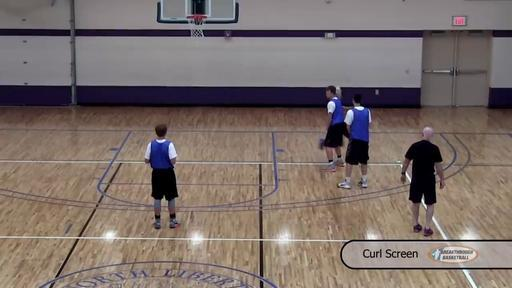human: (400, 127, 444, 236), (144, 124, 181, 230), (338, 94, 372, 188), (320, 86, 348, 172)
rim: (186, 15, 208, 36)
